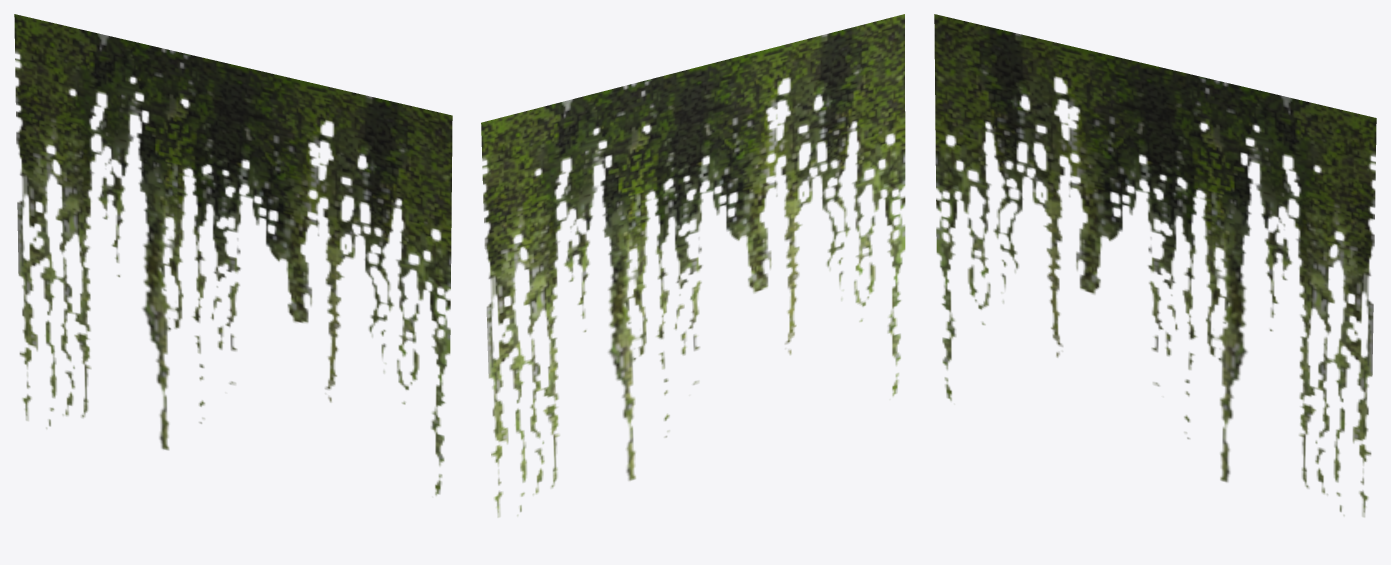
Rendered from MountPass_1_Ivy_3.gltf.
The picture shows the model from 3 angles, left to right: view 1: azimuth 90°, elevation 25°; view 2: azimuth 150°, elevation 25°; view 3: azimuth 270°, elevation 25°; orthographic projection. The views are drawn at different scales.
Parts seen in each view (by area): view 1: MountPass_1_Ivy_3; view 2: MountPass_1_Ivy_3; view 3: MountPass_1_Ivy_3.
Part boxes in pixels (x1,y1,x2,y2): MountPass_1_Ivy_3: (14,14,452,495); MountPass_1_Ivy_3: (481,14,905,517); MountPass_1_Ivy_3: (934,14,1376,516).
Size of the model in its own units: 4.33 by 8.45 by 7.72.
Materials: 1 (1 with a texture image).
